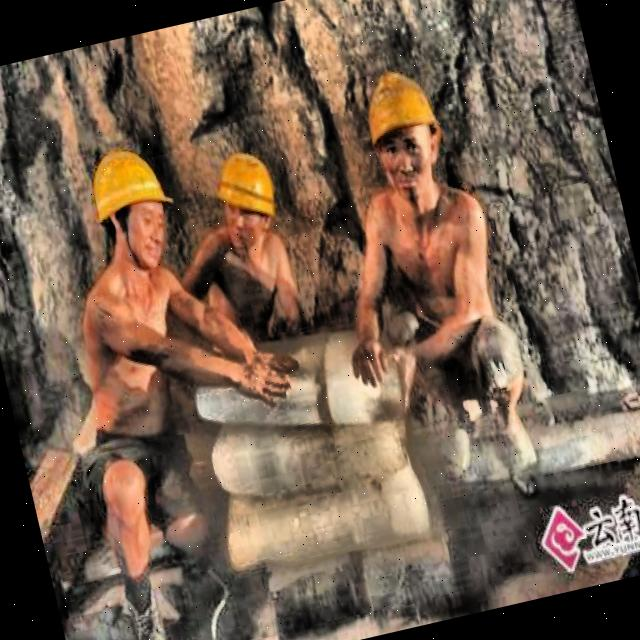helmet: (346, 56, 459, 214), (74, 131, 189, 284), (203, 139, 297, 269)
